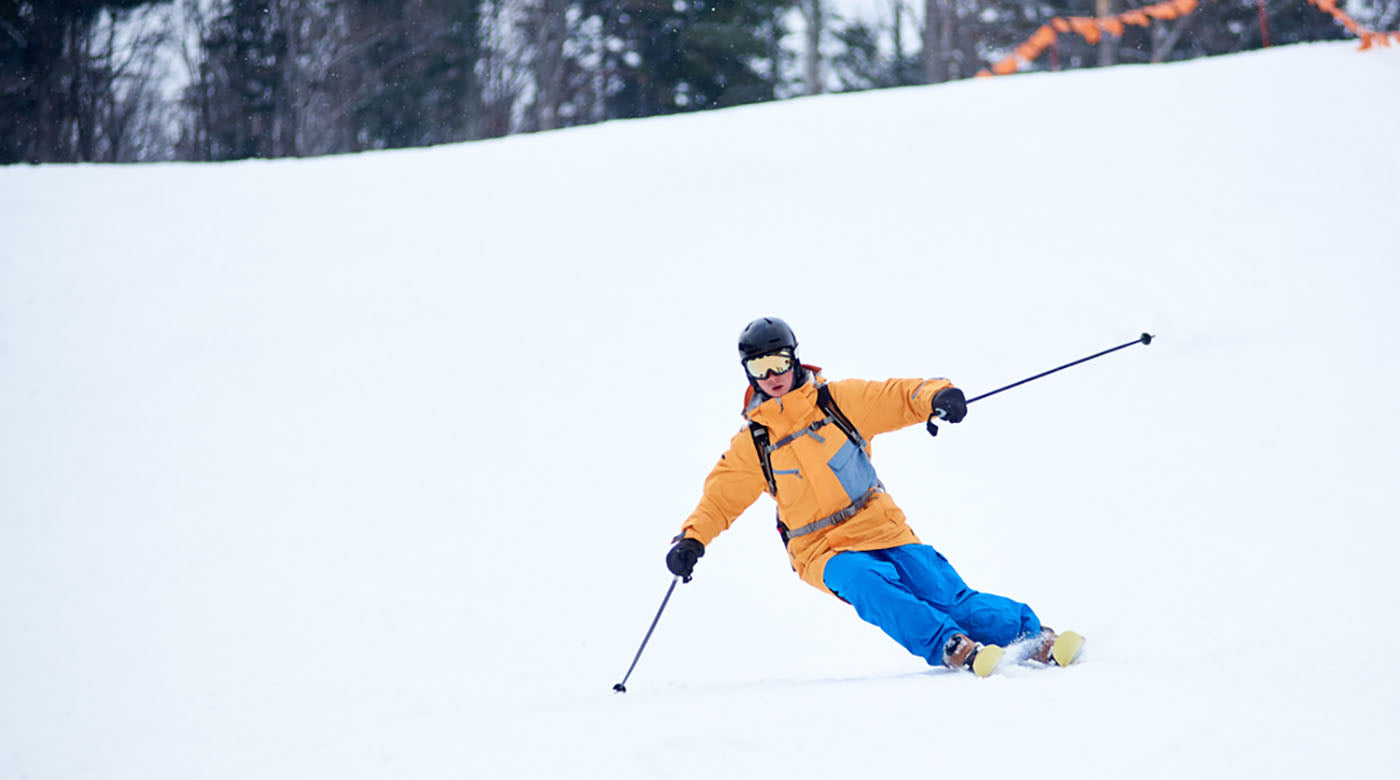skier: (611, 314, 1163, 702)
